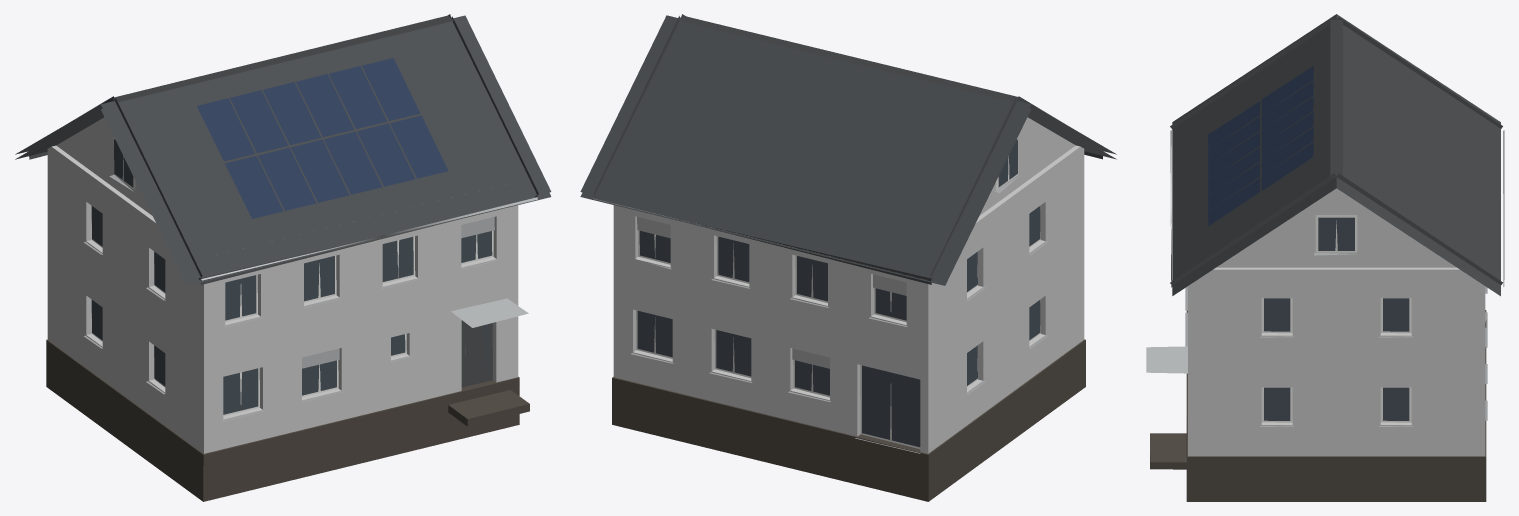
The model's file is house-modern-lod1.glb.
3 renders of one model, left to right at view 1: azimuth 30°, elevation 25°; view 2: azimuth 150°, elevation 25°; view 3: azimuth 270°, elevation 25°, orthographic. The views are drawn at different scales.
Parts seen in each view (by area): view 1: house-modern-plaster0.001; view 2: house-modern-plaster0.001; view 3: house-modern-plaster0.001.
Part boxes in pixels (x1,y1,x2,y2): house-modern-plaster0.001: [15, 14, 551, 501]; house-modern-plaster0.001: [580, 14, 1116, 501]; house-modern-plaster0.001: [1146, 14, 1504, 501].
Size of the model in its own units: 11.6 by 10.63 by 10.36.
